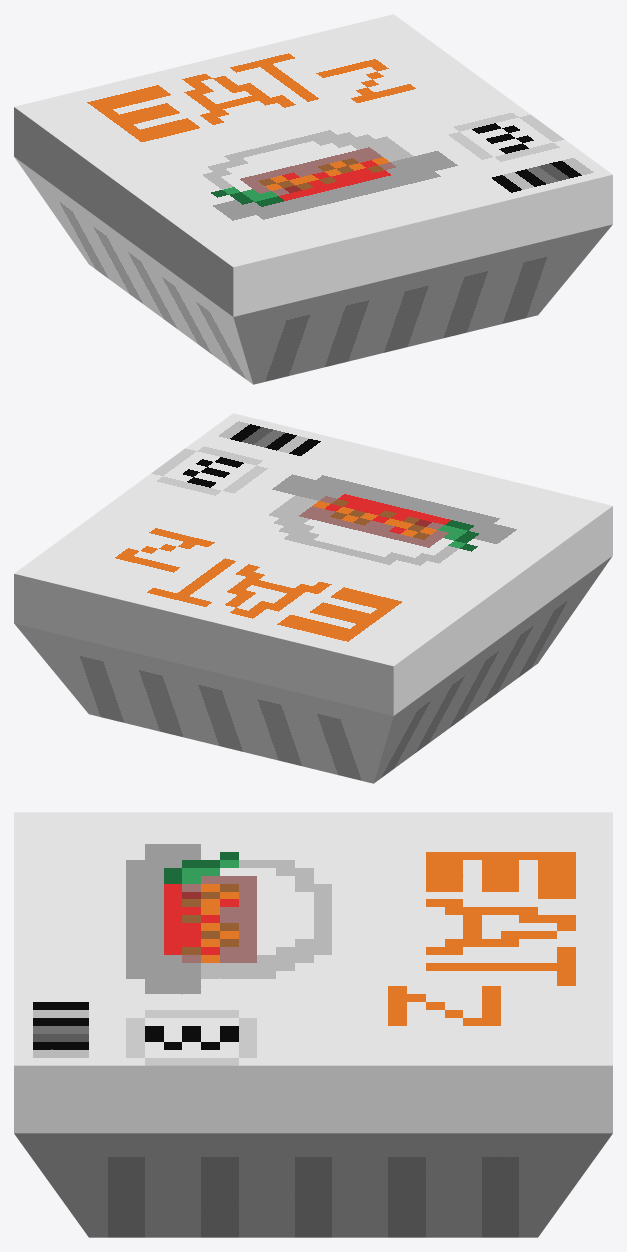
The model's file is frozen-food.gltf.
3 views of the same model, one above another, from view 1: azimuth 30°, elevation 25°; view 2: azimuth 150°, elevation 25°; view 3: azimuth 270°, elevation 25° (orthographic). The views are drawn at different scales.
Visible parts, largest first — view 1: cuboid-col; view 2: cuboid-col; view 3: cuboid-col.
Boxes of the visible parts, x1,y1,x2,y2 form: cuboid-col: [14, 14, 612, 384]; cuboid-col: [14, 413, 612, 783]; cuboid-col: [14, 812, 612, 1237].
Size of the model in its own units: 1 by 0.375 by 1.
1 material, 1 textured.
